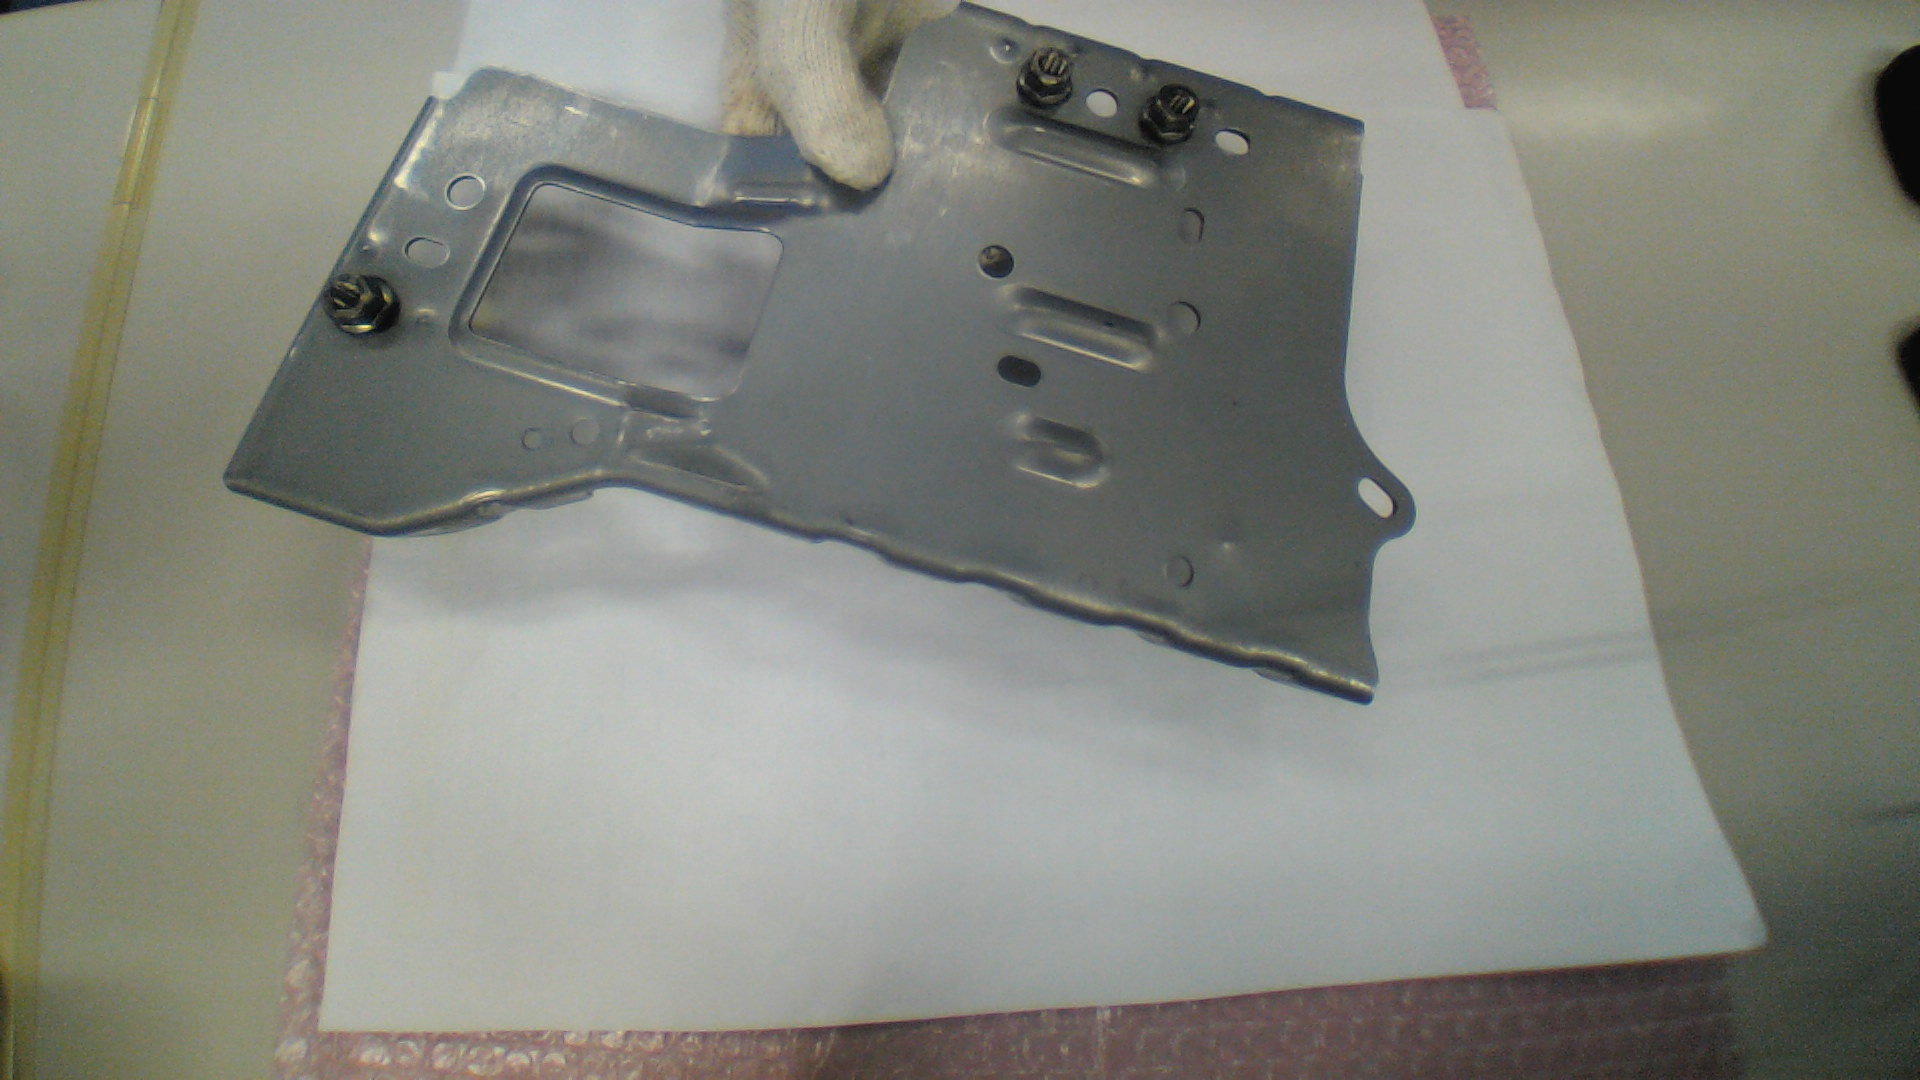dog: (324, 272, 400, 338), (1015, 47, 1075, 109), (1141, 84, 1200, 146)
